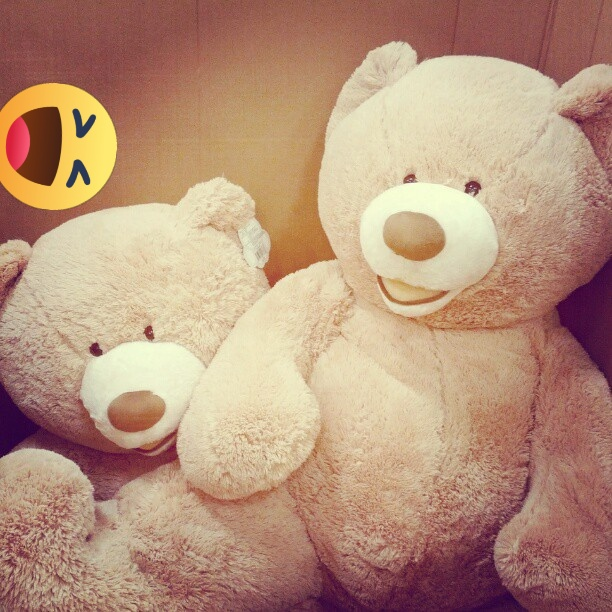haha: (0, 83, 117, 210)
